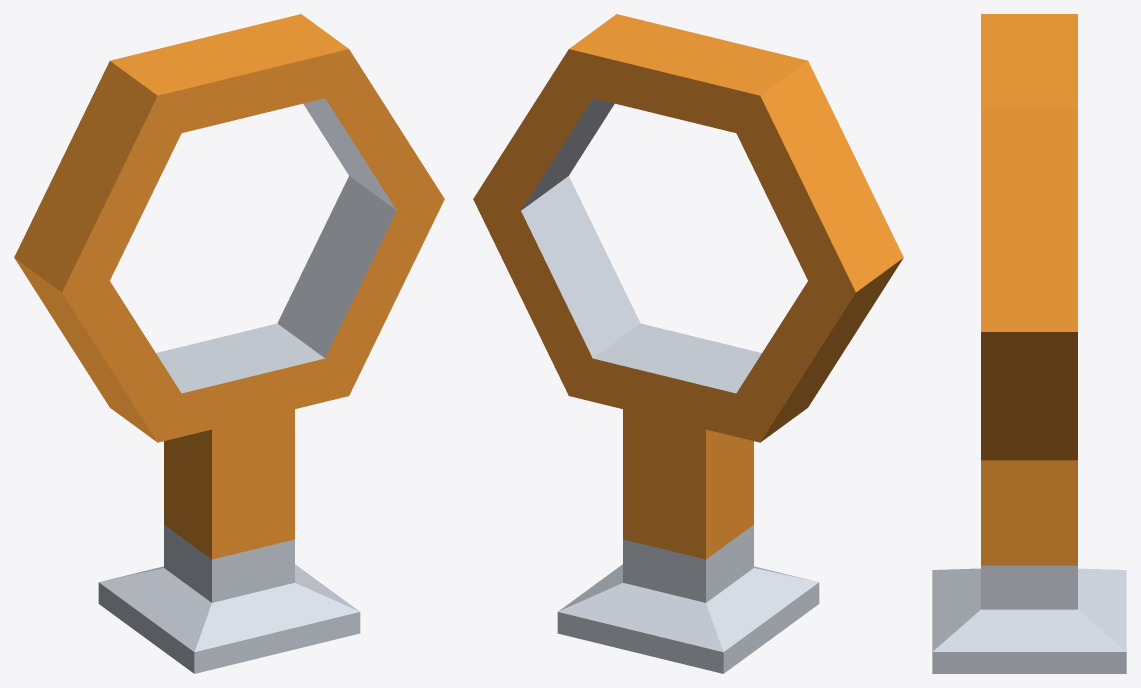
The model's file is pipe_ringSupport.fbx.
The picture shows the model from 3 angles, left to right: view 1: azimuth 30°, elevation 25°; view 2: azimuth 150°, elevation 25°; view 3: azimuth 270°, elevation 25°; orthographic projection.
Visible parts, largest first — view 1: pipe_ringSupport; view 2: pipe_ringSupport; view 3: pipe_ringSupport.
Boxes of the visible parts, x1,y1,x2,y2 form: pipe_ringSupport: [14, 14, 444, 673]; pipe_ringSupport: [473, 14, 903, 673]; pipe_ringSupport: [932, 14, 1126, 673].
Bounding box in the file's own units: 9.24 × 13 × 4.
